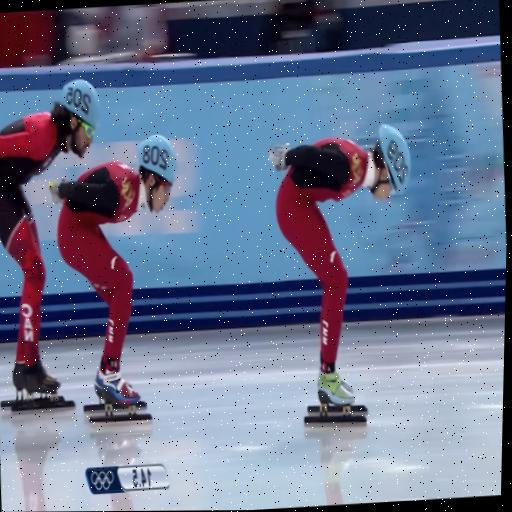Skater: (268, 125, 409, 419), (49, 136, 174, 410), (0, 79, 99, 411)
